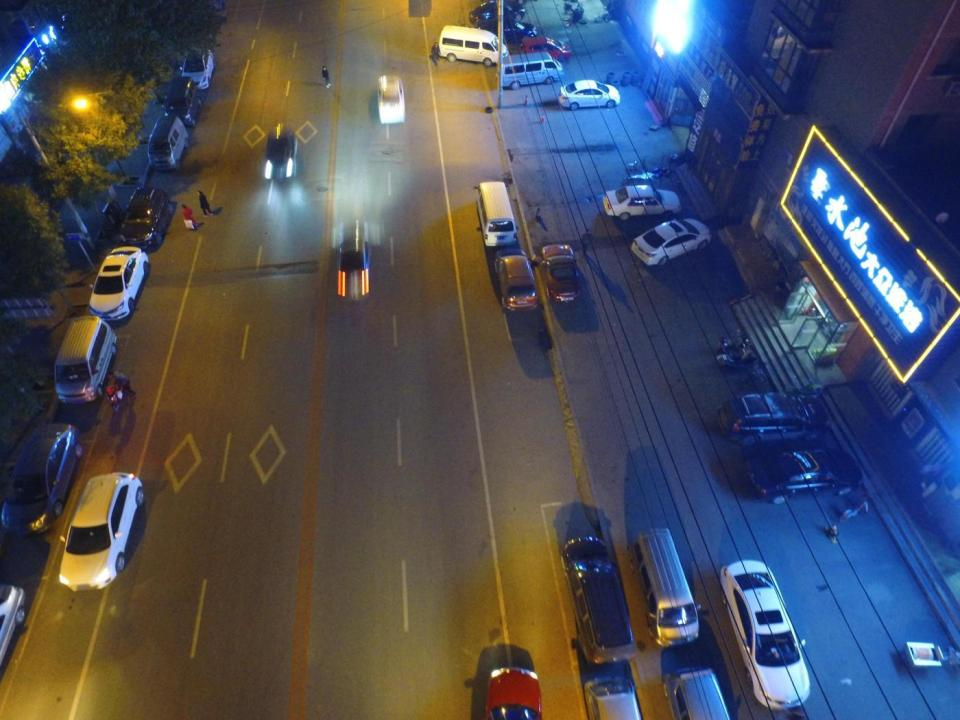car: (717, 558, 811, 708), (61, 472, 145, 590), (5, 424, 81, 536), (719, 391, 831, 446), (750, 446, 862, 498), (87, 245, 151, 323), (628, 219, 712, 266), (336, 221, 377, 303), (122, 185, 173, 249), (485, 666, 543, 718), (493, 248, 538, 314), (579, 678, 646, 719), (0, 584, 27, 682), (602, 185, 681, 218), (541, 244, 582, 303), (264, 124, 298, 183), (557, 79, 619, 110), (474, 18, 538, 43), (182, 42, 213, 90), (466, 1, 528, 25), (379, 73, 406, 124), (523, 36, 573, 62)
van: (560, 537, 636, 665), (631, 527, 700, 647), (53, 314, 117, 406), (662, 667, 727, 718), (473, 182, 519, 247), (437, 24, 507, 64), (493, 51, 565, 88), (148, 116, 188, 172), (165, 76, 205, 126)
